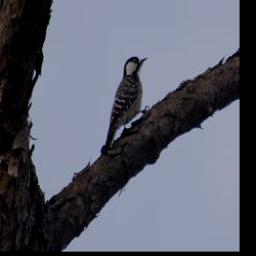Woodpecker: (96, 49, 153, 160)
